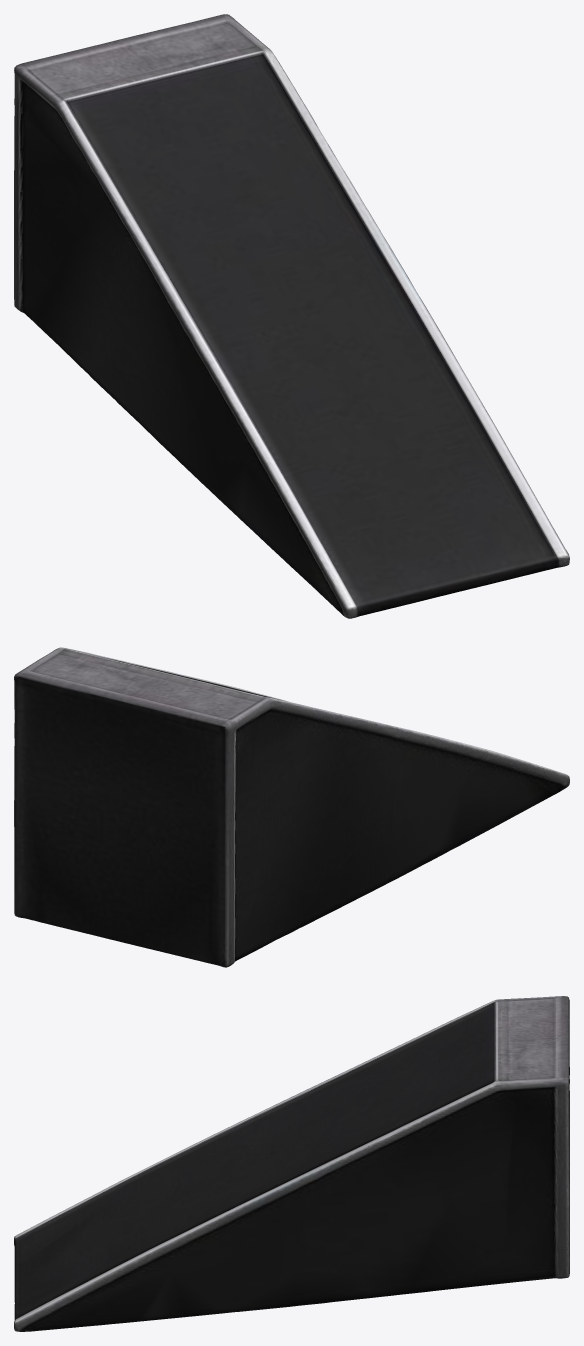
The model's file is truck_ramp.glb.
The picture shows the model from 3 angles, top to bottom: view 1: azimuth 30°, elevation 25°; view 2: azimuth 150°, elevation 25°; view 3: azimuth 270°, elevation 25°; orthographic projection. The views are drawn at different scales.
Parts seen in each view (by area): view 1: tripo_node_6e1490b2; view 2: tripo_node_6e1490b2; view 3: tripo_node_6e1490b2.
Part boxes in pixels (box(x1,y1,x2,y2)): tripo_node_6e1490b2: box(14, 14, 569, 618); tripo_node_6e1490b2: box(14, 647, 569, 967); tripo_node_6e1490b2: box(14, 996, 569, 1331).
Bounding box in the file's own units: 0.3727 × 0.488 × 0.9805.
1 material, 1 textured.
